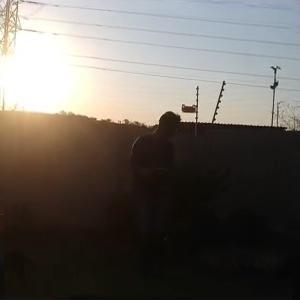follow: (121, 106, 180, 298)
